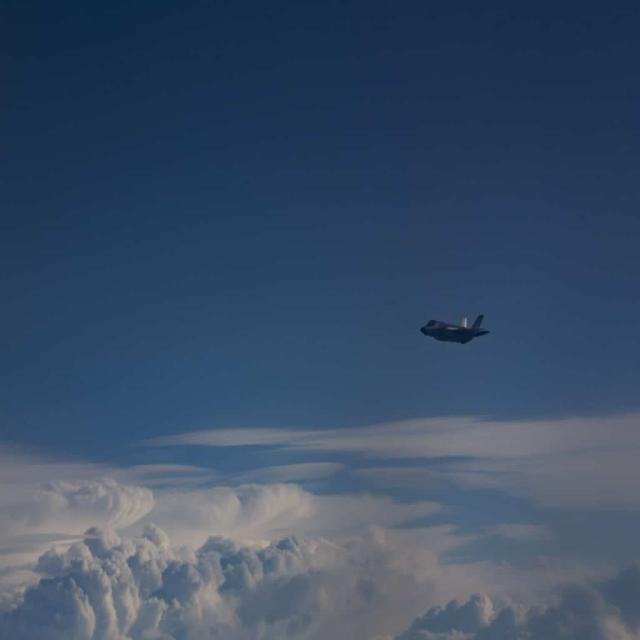MIL_Plane: (420, 314, 490, 344)
